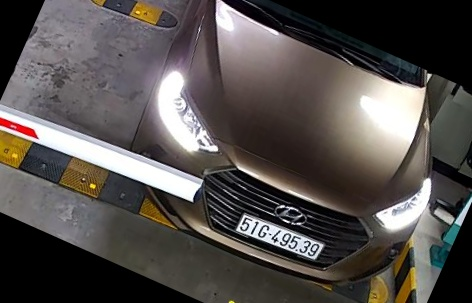plate: (228, 199, 330, 272)
